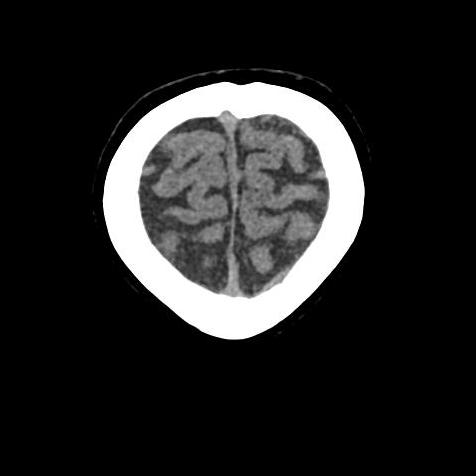Normal_Brain: (49, 45, 422, 404)
